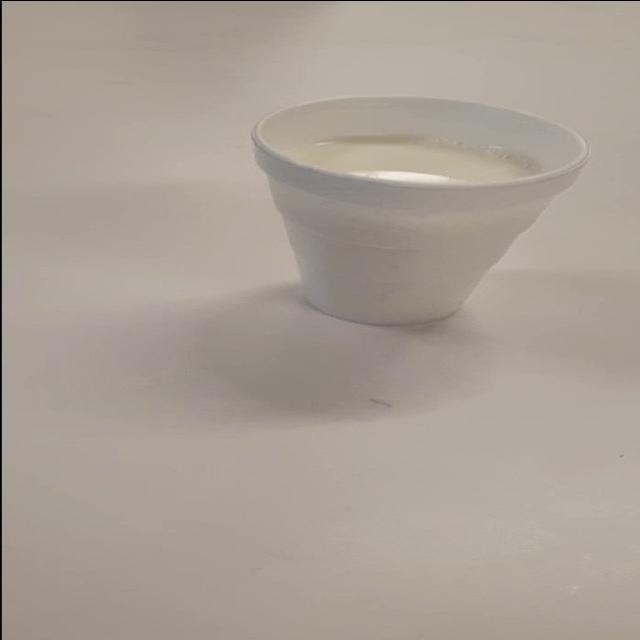Milk: (234, 86, 639, 341)
